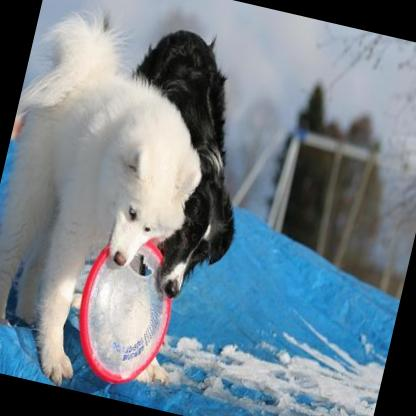Samoyed: (0, 0, 230, 403)
